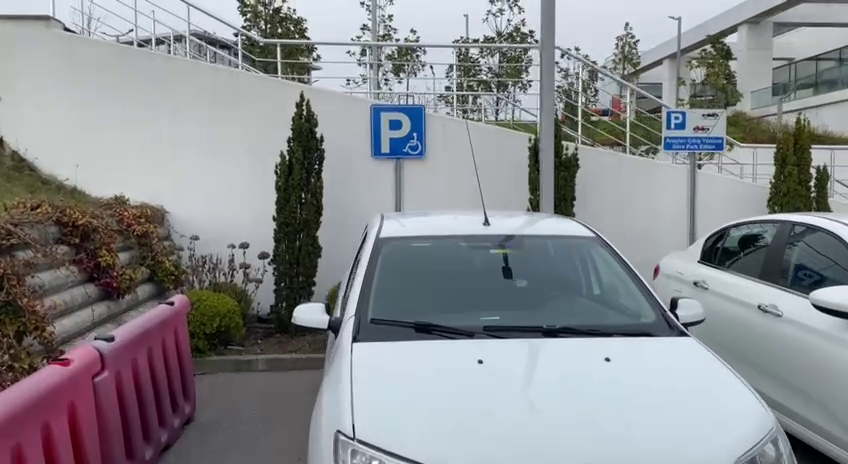parking: (368, 104, 428, 158), (663, 110, 688, 131)
